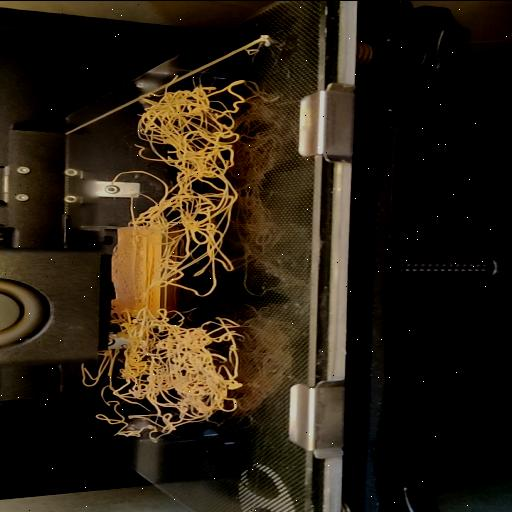spaghetti: (113, 74, 245, 442), (76, 354, 110, 422)
